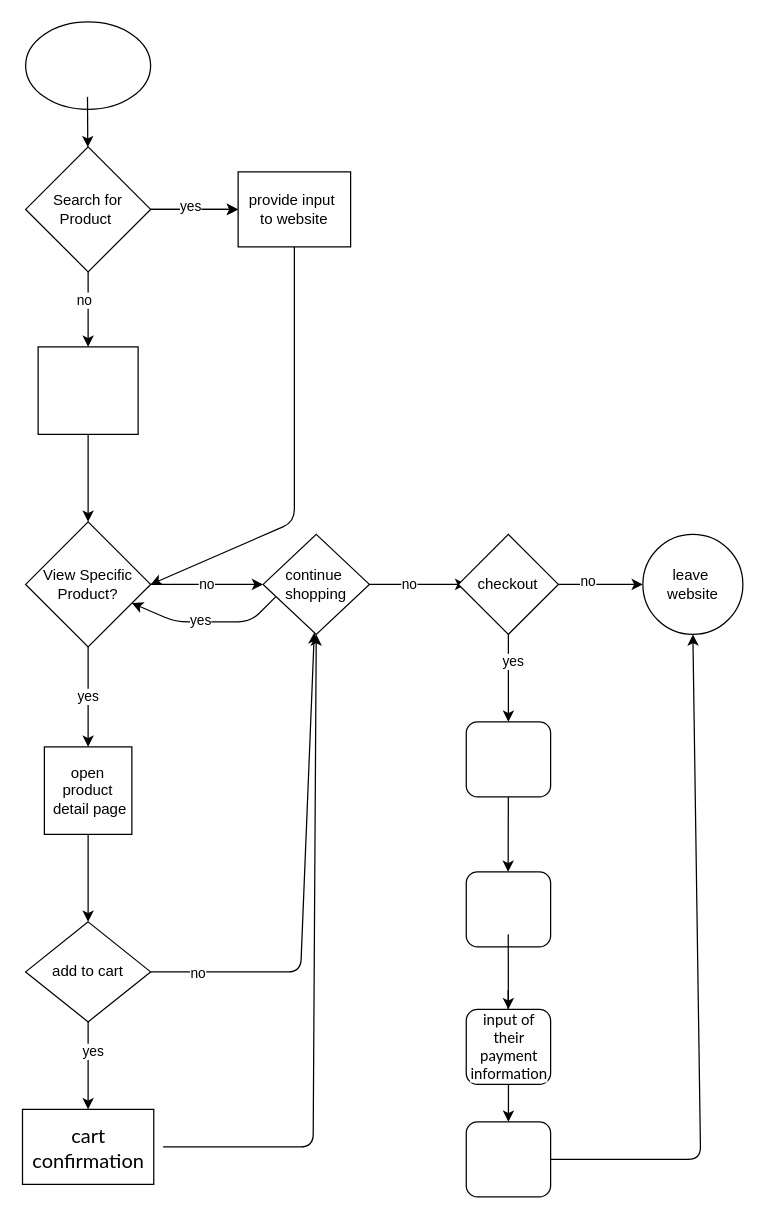
The diagram is 765 pixels wide and 1219 high, and some of its shapes have lost their labels. Each missing label, with the centre of its shape:
explore products in the home page: pixel 87 390
reach the View cart screen: pixel 508 759
reach the View payment screen: pixel 508 909
Receive email: pixel 508 1159
User Enters Website: pixel 87 65
